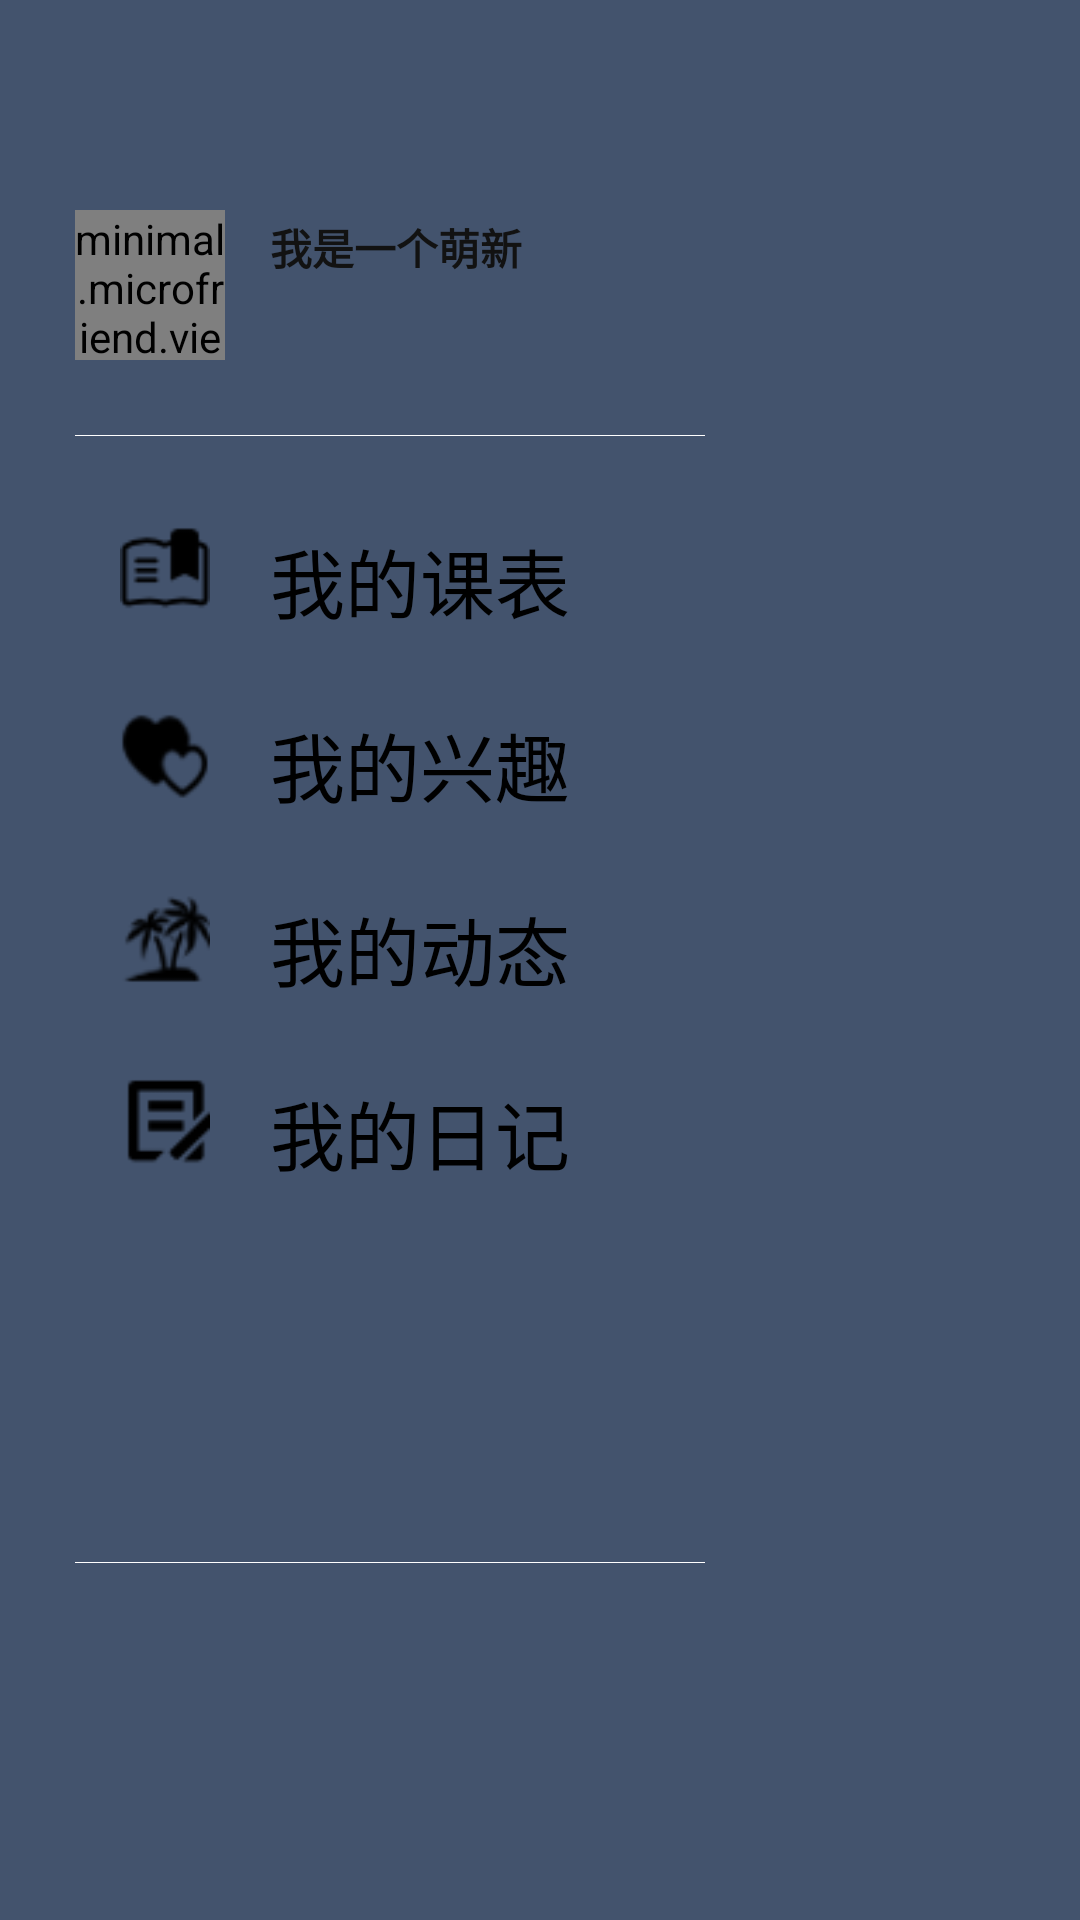

Icons on this 1080w x 1920h Android screen, each with its box as box=[x1, y1, x2, y2]:
classtable: box=[120, 528, 210, 607]
diary: box=[128, 1080, 210, 1162]
